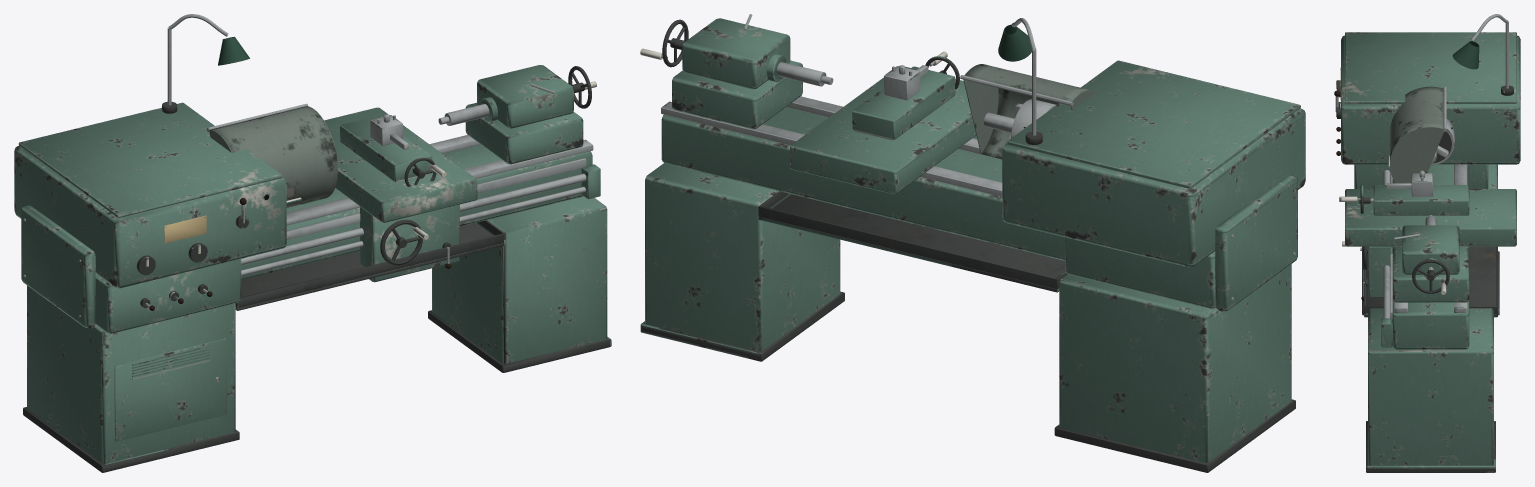
The model's file is LSB_ENV_MCH_Lathe_Mid_v01.fbx.
The picture shows the model from 3 angles, left to right: view 1: azimuth 30°, elevation 25°; view 2: azimuth 150°, elevation 25°; view 3: azimuth 270°, elevation 25°; orthographic projection. The views are drawn at different scales.
Parts seen in each view (by area): view 1: LatheMid; view 2: LatheMid; view 3: LatheMid.
Part boxes in pixels (left/top/right/bottom): LatheMid: left=14, top=14, right=611, bottom=472; LatheMid: left=640, top=14, right=1305, bottom=472; LatheMid: left=1334, top=14, right=1520, bottom=472.
Size of the model in its own units: 2.87 by 1.81 by 0.976.
